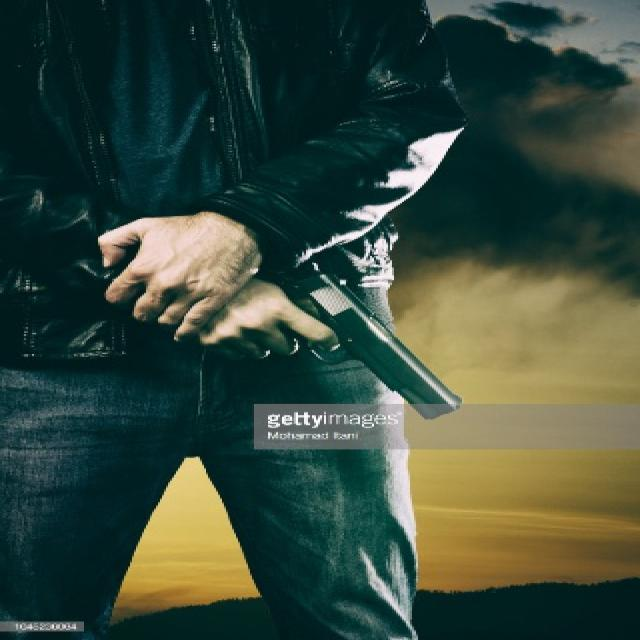handgun: (269, 252, 467, 417)
